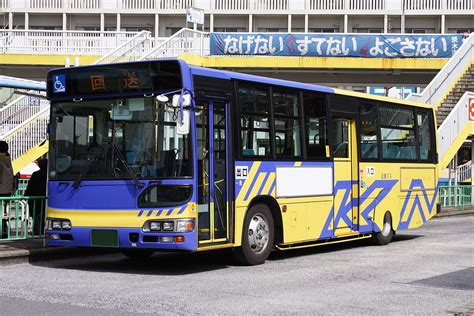bus: (46, 67, 439, 259)
